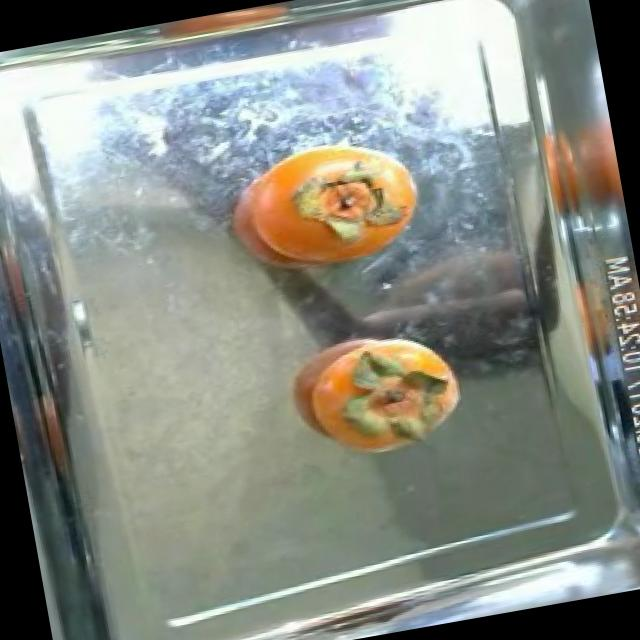Fruit: (289, 316, 484, 478), (380, 218, 552, 388)
